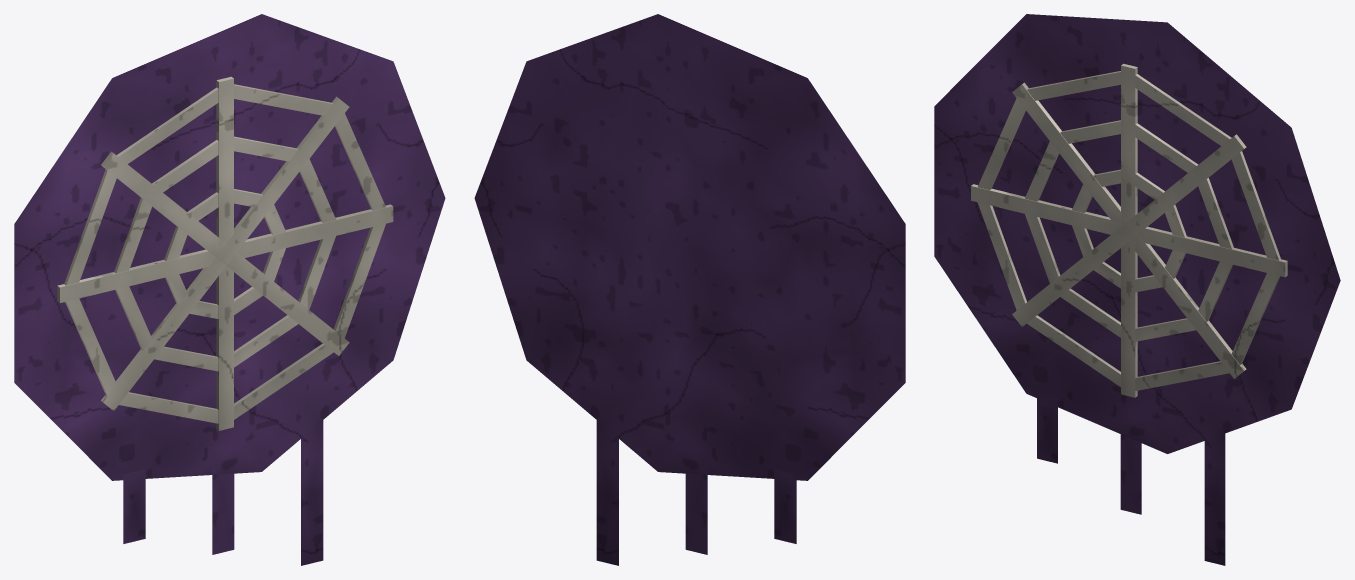
File: tag_tisseuses.glb
3 renders of one model, left to right at view 1: azimuth 30°, elevation 25°; view 2: azimuth 150°, elevation 25°; view 3: azimuth 330°, elevation 25°, orthographic. The views are drawn at different scales.
Parts seen in each view (by area): view 1: group_0, group_5; view 2: group_0; view 3: group_0, group_5.
Part boxes in pixels (x1,y1,x2,y2): group_0: [14, 14, 445, 565]; group_5: [57, 76, 393, 430]; group_0: [474, 14, 905, 565]; group_0: [934, 14, 1340, 565]; group_5: [971, 63, 1287, 397].
Size of the model in its own units: 3.88 by 4.83 by 0.0503.
2 materials, 2 textured.
